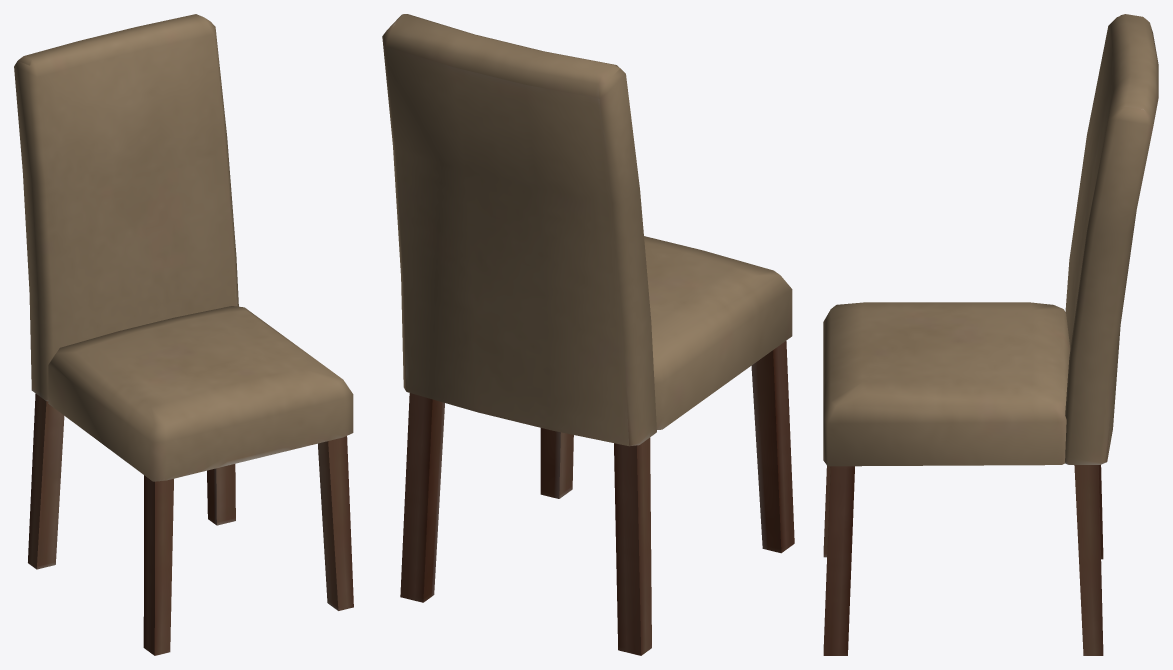
File: KitchenChair_Fabric.FBX
The picture shows the model from 3 angles, left to right: view 1: azimuth 30°, elevation 25°; view 2: azimuth 150°, elevation 25°; view 3: azimuth 270°, elevation 25°; orthographic projection. The views are drawn at different scales.
Visible parts, largest first — view 1: KitchenChair_Fabric; view 2: KitchenChair_Fabric; view 3: KitchenChair_Fabric.
Part boxes in pixels (left/top/right/bottom): KitchenChair_Fabric: left=14, top=14, right=353, bottom=655; KitchenChair_Fabric: left=382, top=14, right=794, bottom=655; KitchenChair_Fabric: left=823, top=14, right=1158, bottom=655.
Size of the model in its own units: 42.02 by 98.82 by 55.4.
